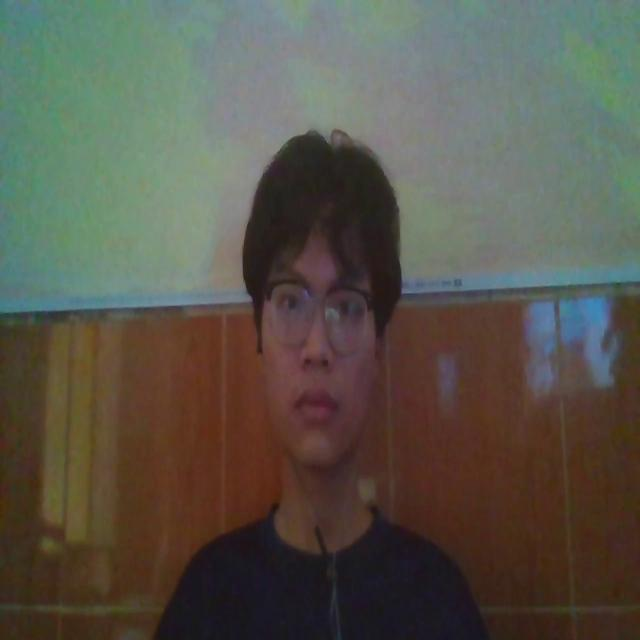student: (146, 117, 492, 640)
